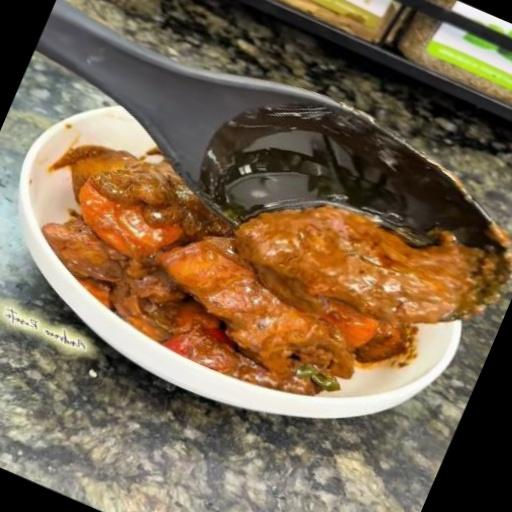pork caldereta: (50, 153, 412, 388)
